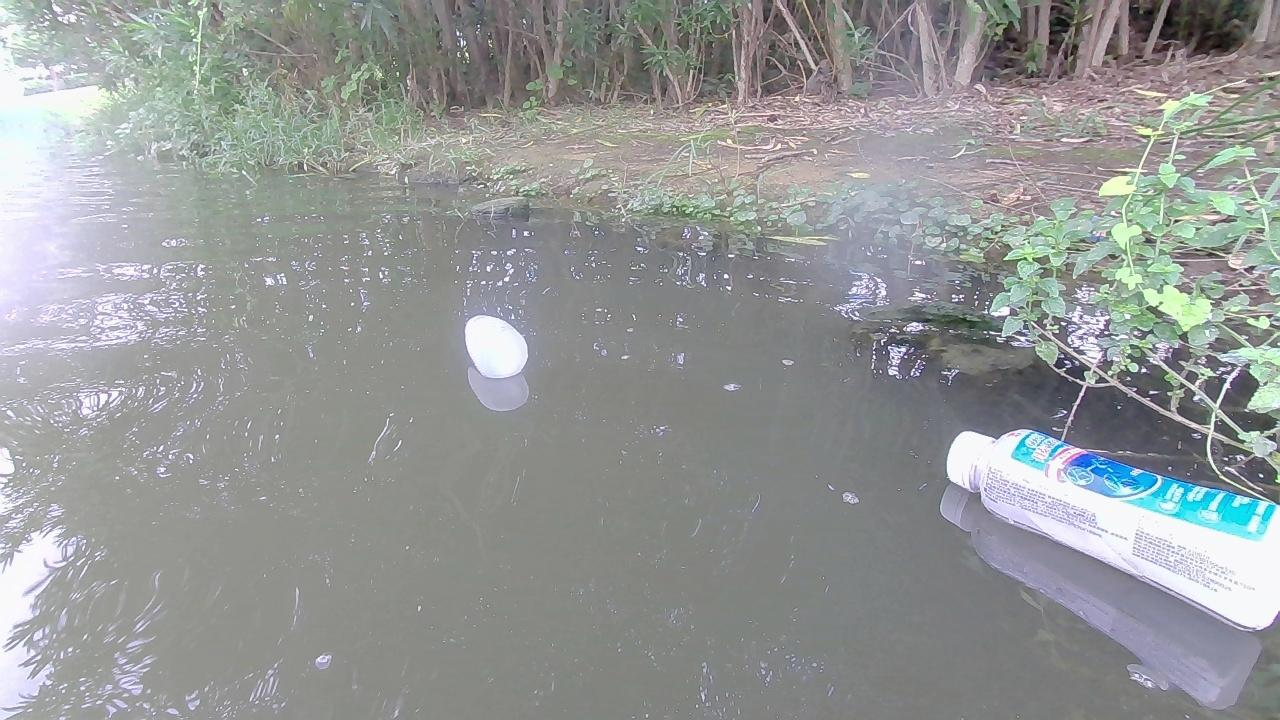Plastic: (945, 426, 1280, 634), (463, 313, 530, 382)
